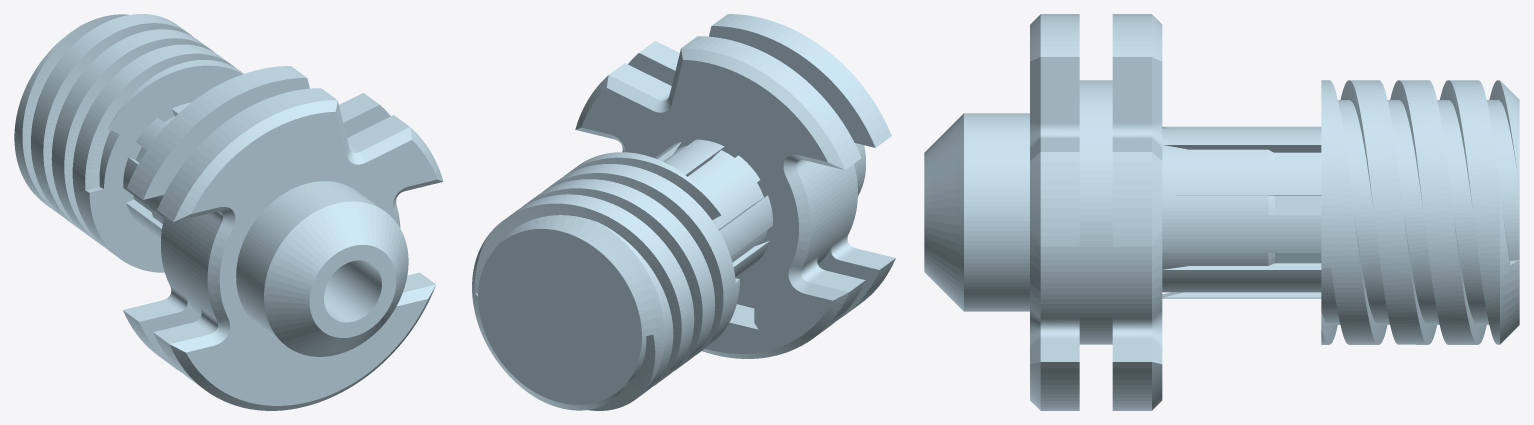
File: FACE MILL.fbx
The picture shows the model from 3 angles, left to right: view 1: azimuth 30°, elevation 25°; view 2: azimuth 150°, elevation 25°; view 3: azimuth 270°, elevation 25°; orthographic projection. The views are drawn at different scales.
Visible parts, largest first — view 1: imagetostl_mesh0; view 2: imagetostl_mesh0; view 3: imagetostl_mesh0.
Boxes of the visible parts, left/top/right/bottom form: imagetostl_mesh0: left=14, top=14, right=443, bottom=410; imagetostl_mesh0: left=472, top=14, right=895, bottom=410; imagetostl_mesh0: left=924, top=14, right=1519, bottom=410.
Bounding box in the file's own units: 2842 × 3000 × 4500.
